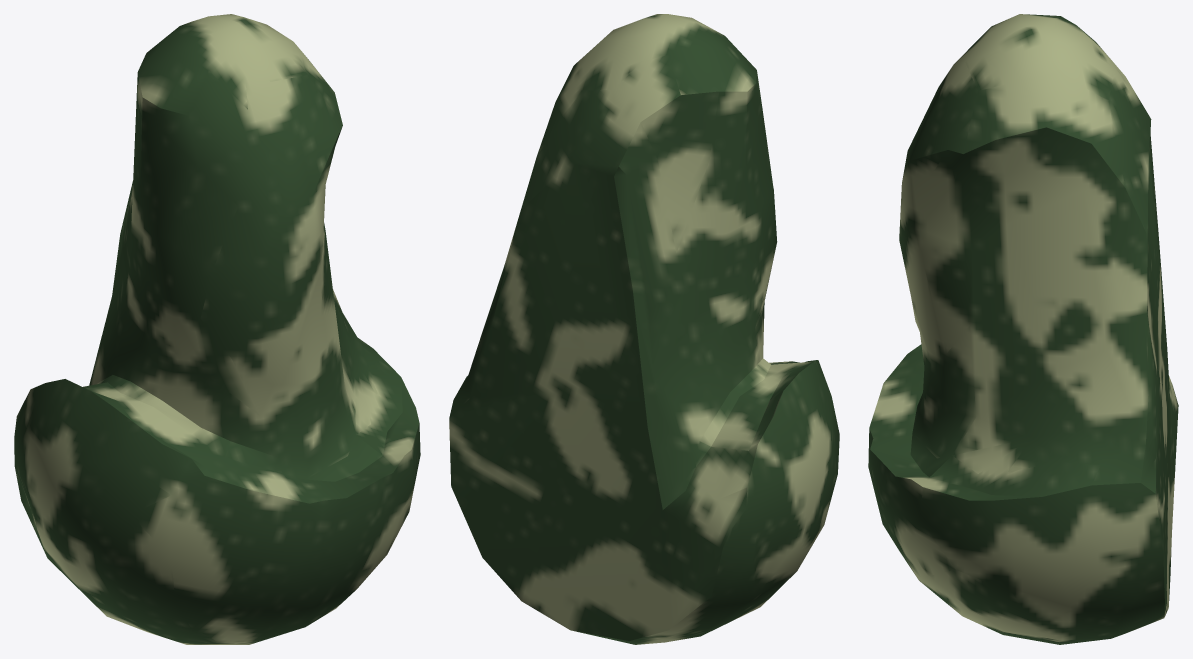
Rendered from link_leg_1_R_0.obj.
3 renders of one model, left to right at view 1: azimuth 30°, elevation 25°; view 2: azimuth 150°, elevation 25°; view 3: azimuth 270°, elevation 25°, orthographic. The views are drawn at different scales.
Parts seen in each view (by area): view 1: link_leg_1_R_0; view 2: link_leg_1_R_0; view 3: link_leg_1_R_0.
Part boxes in pixels (x1,y1,x2,y2): link_leg_1_R_0: [14, 14, 420, 644]; link_leg_1_R_0: [449, 14, 839, 644]; link_leg_1_R_0: [868, 14, 1178, 644].
Size of the model in its own units: 8.47 by 14.21 by 6.67.
